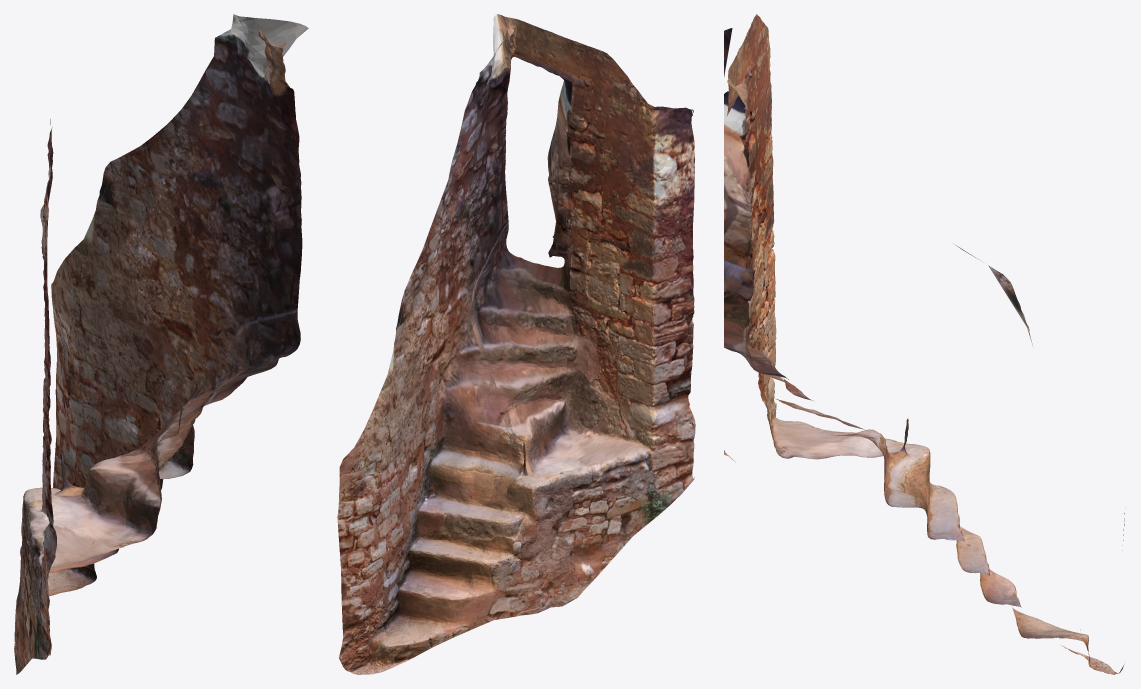
The model's file is S042_RoussillonStairs.glb.
The picture shows the model from 3 angles, left to right: view 1: azimuth 30°, elevation 25°; view 2: azimuth 150°, elevation 25°; view 3: azimuth 270°, elevation 25°; orthographic projection. The views are drawn at different scales.
Visible parts, largest first — view 1: Mesh; view 2: Mesh; view 3: Mesh.
Boxes of the visible parts, x1,y1,x2,y2 form: Mesh: (14, 14, 308, 674); Mesh: (337, 14, 695, 674); Mesh: (724, 14, 1125, 674).
Bounding box in the file's own units: 0.6231 × 1.6 × 0.9654.
Materials: 1 (1 with a texture image).
